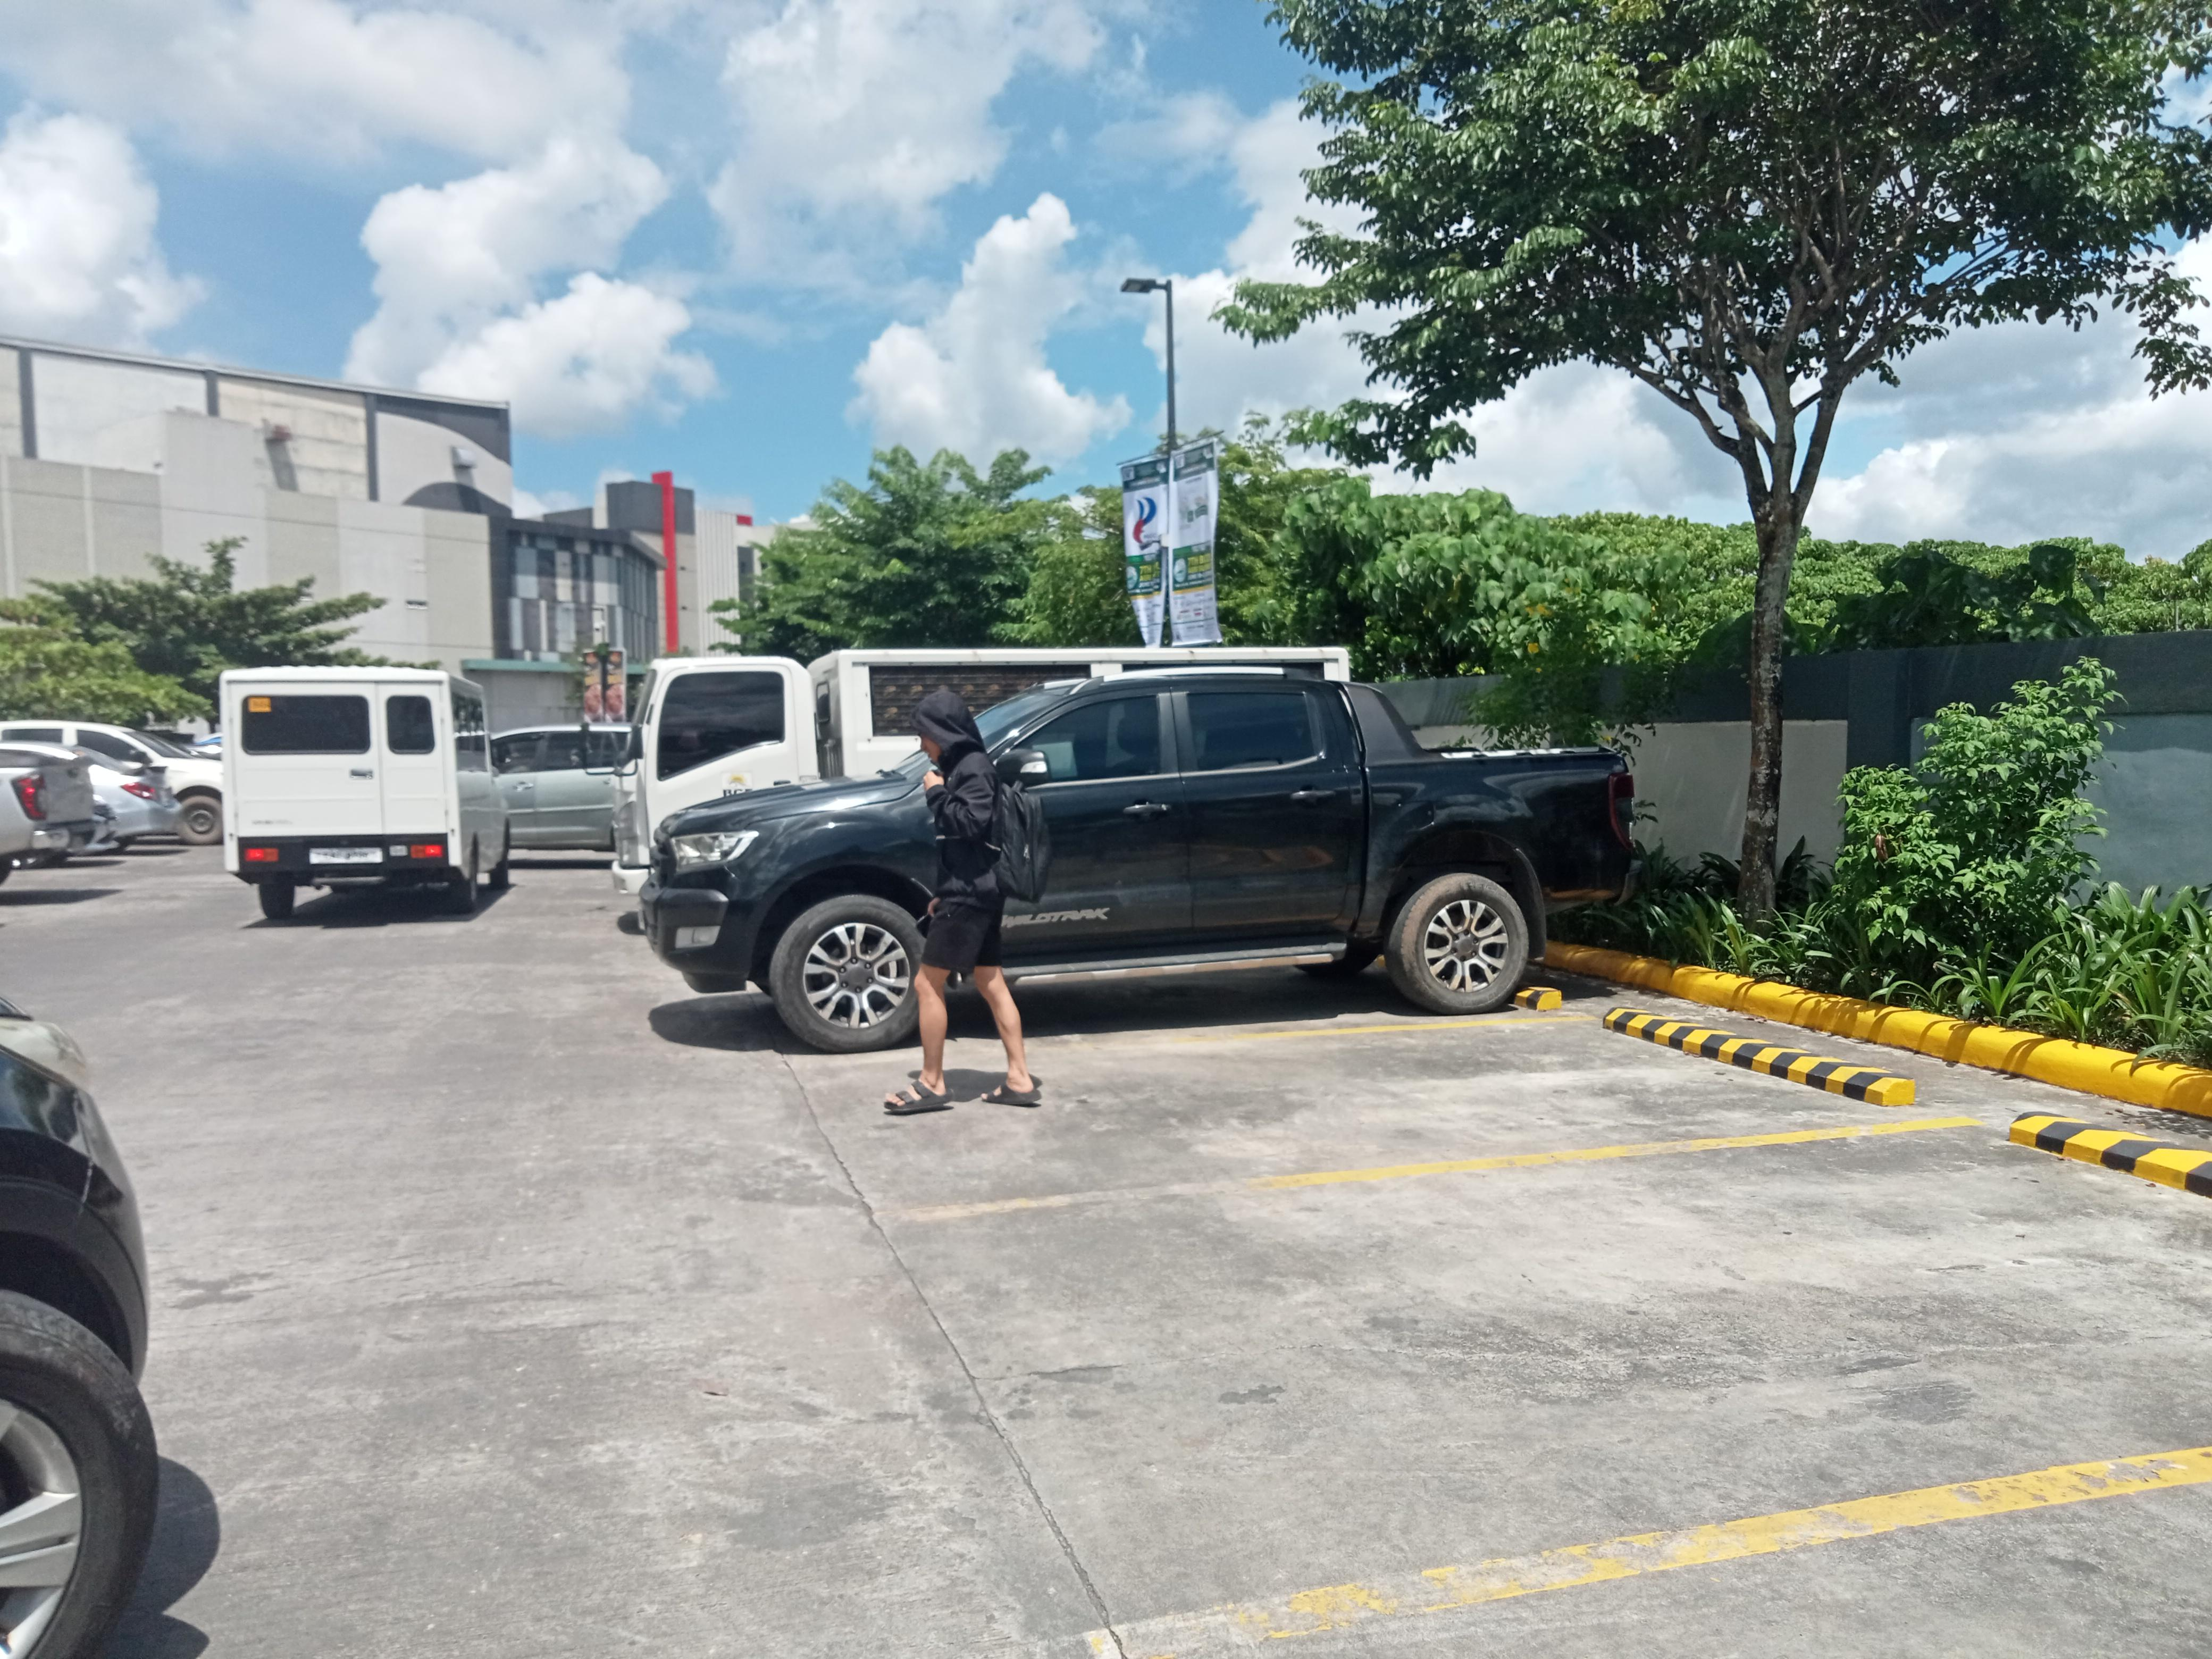vacant: (780, 1009, 2047, 1229)
